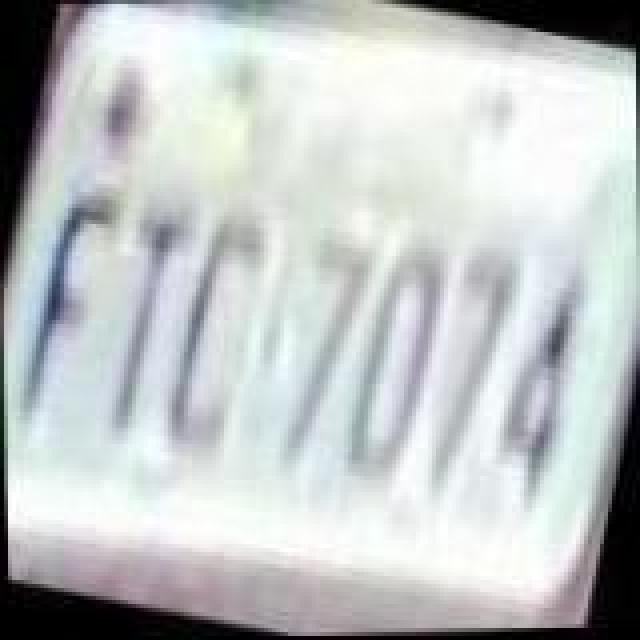4: (478, 260, 602, 536)
7: (404, 228, 536, 508), (258, 222, 386, 490)
C: (154, 202, 282, 470)
F: (2, 174, 130, 450)
O: (332, 228, 456, 496)
T: (86, 208, 206, 452)
